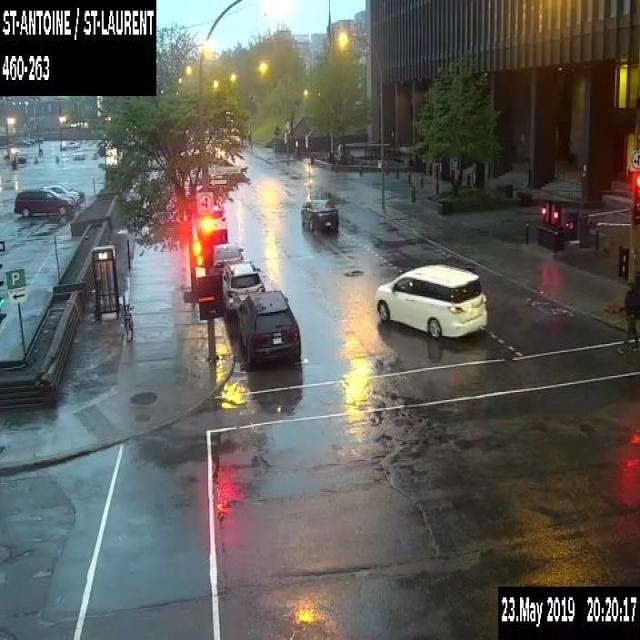construction: (273, 125, 280, 135)
pedestrian: (618, 257, 639, 351)
vehicle: (375, 262, 488, 340), (236, 288, 300, 368), (221, 260, 265, 319), (14, 188, 74, 216), (300, 198, 338, 234), (210, 241, 243, 274), (38, 183, 80, 205), (206, 204, 227, 242), (60, 140, 80, 149), (72, 148, 85, 158), (24, 136, 35, 143), (20, 138, 31, 145), (35, 136, 43, 142)
